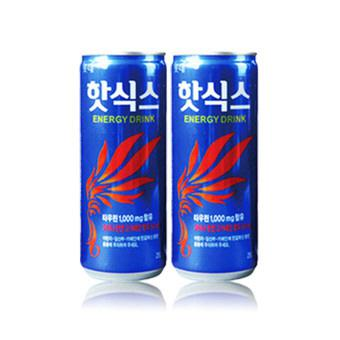hotsix_org: (73, 48, 171, 287), (169, 46, 262, 284)
